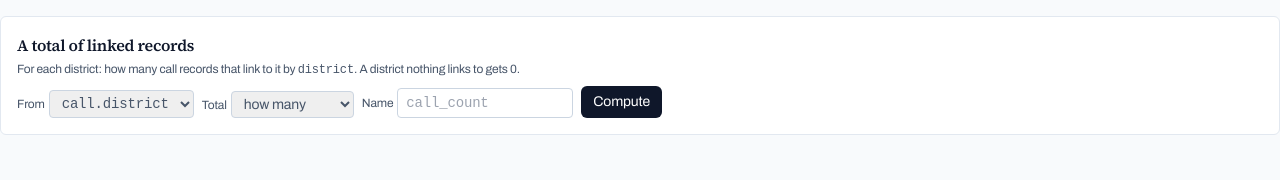
Test: totals the records that link to each record into a field (benchmark, October 2026)
Select "the total of" in the dropdown named "How to total" at coordinates (292, 104), box [231,91,354,118]
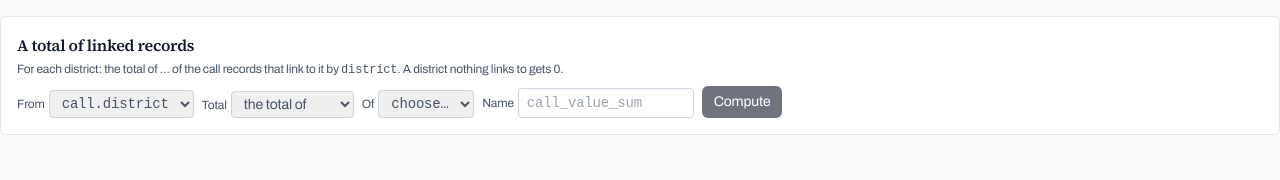
Now the button "Compute" is disabled, box [702,86,782,118]
Select "minutes" in the dropdown named "Number totalled" at coordinates (426, 104), box [378,90,474,118]
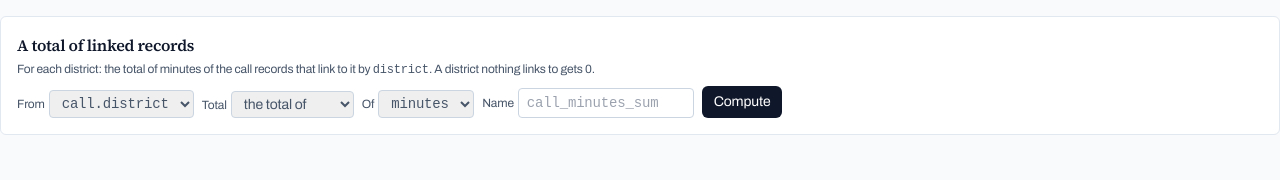
Click the button "Compute" at coordinates (742, 102), box [702,86,782,118]
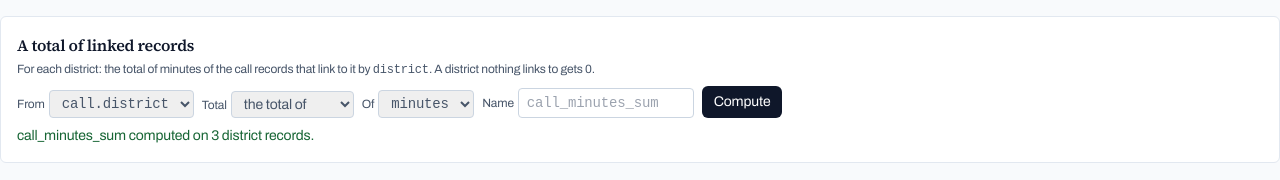
Now the text "call_minutes_sum computed on 3 district records." is shown, box [17,128,314,143]
